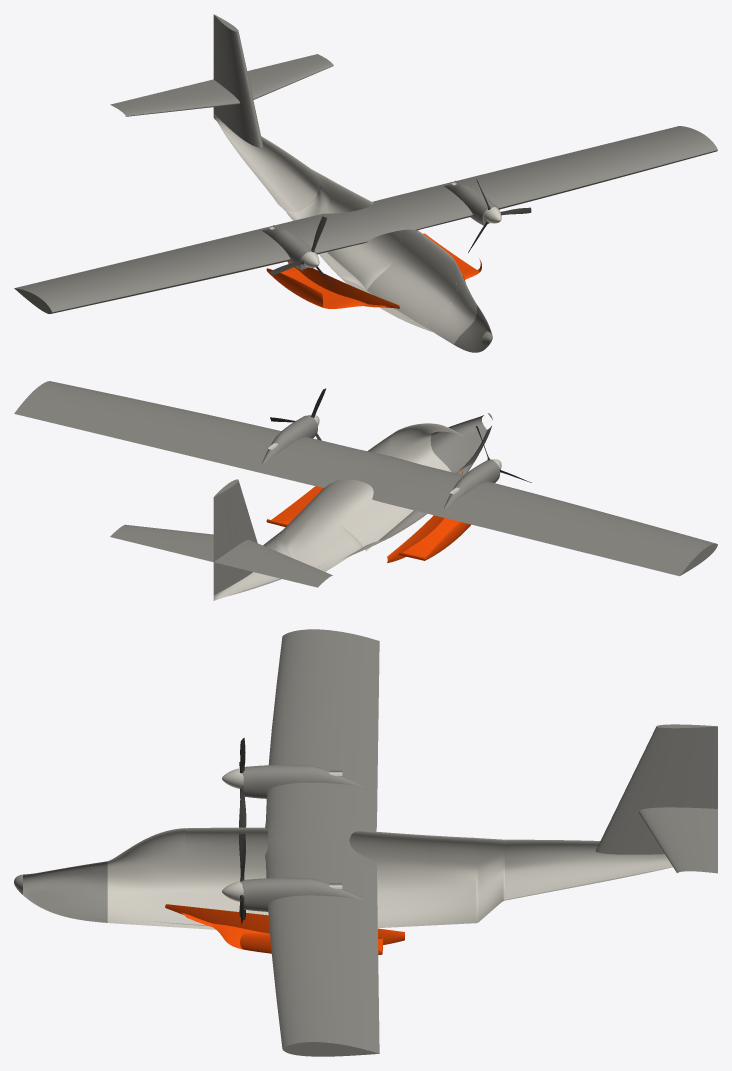
File: manticores.glb
3 views of the same model, one above another, from view 1: azimuth 30°, elevation 25°; view 2: azimuth 150°, elevation 25°; view 3: azimuth 270°, elevation 25° (orthographic). The views are drawn at different scales.
Parts seen in each view (by area): view 1: Surface-Imported21, Surface-Imported18, Surface-Imported24, Imported1; view 2: Surface-Imported21, Surface-Imported18, Surface-Imported24, Imported1; view 3: Surface-Imported21, Surface-Imported18, Surface-Imported24, Imported1.
Part boxes in pixels (left/top/right/bottom): Surface-Imported21: left=14, top=14, right=717, bottom=352; Surface-Imported18: left=213, top=113, right=501, bottom=344; Surface-Imported24: left=266, top=233, right=481, bottom=308; Imported1: left=269, top=179, right=531, bottom=286; Surface-Imported21: left=14, top=381, right=717, bottom=594; Surface-Imported18: left=213, top=414, right=501, bottom=600; Surface-Imported24: left=266, top=471, right=470, bottom=562; Imported1: left=270, top=388, right=531, bottom=482; Surface-Imported21: left=14, top=629, right=717, bottom=1056; Surface-Imported18: left=107, top=768, right=672, bottom=929; Surface-Imported24: left=165, top=904, right=404, bottom=954; Imported1: left=239, top=737, right=246, bottom=924.
Size of the model in its own units: 17.61 by 4.19 by 12.69.
